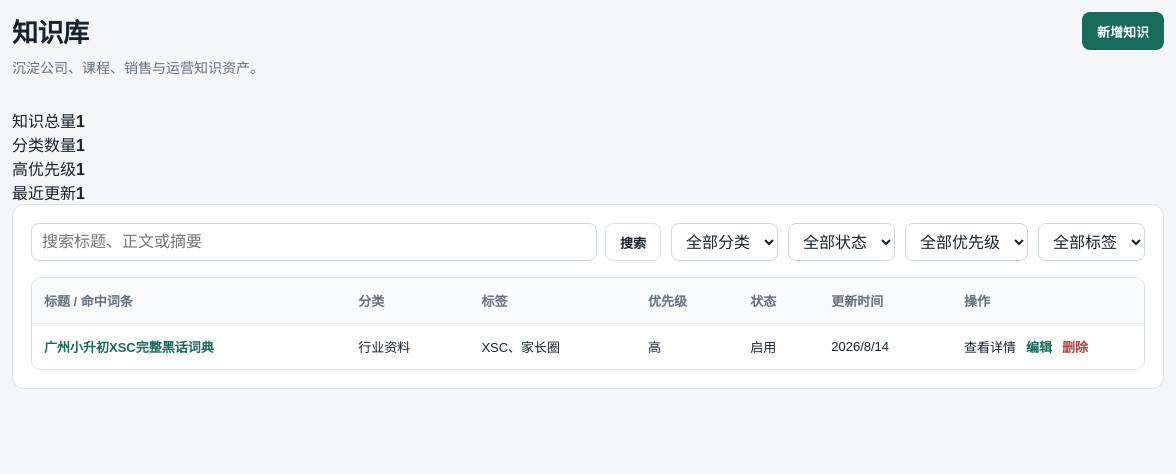
Scenario: KnowledgePage › shows matched XSC, MK and HD entries through the search button and Enter
The image size is (1176, 474).
Expected: the link "广州小升初XSC完整黑话词典" is shown, [44, 340, 214, 355]
Type "MK" into the field named "搜索知识" at (314, 242), box [31, 223, 597, 261]
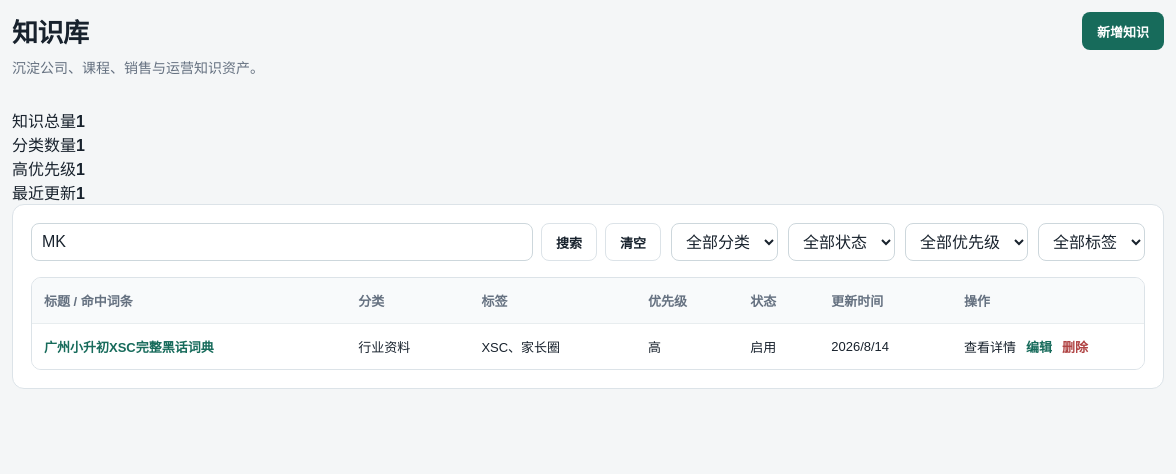
Click the button "搜索" at (569, 242), box [541, 223, 597, 261]
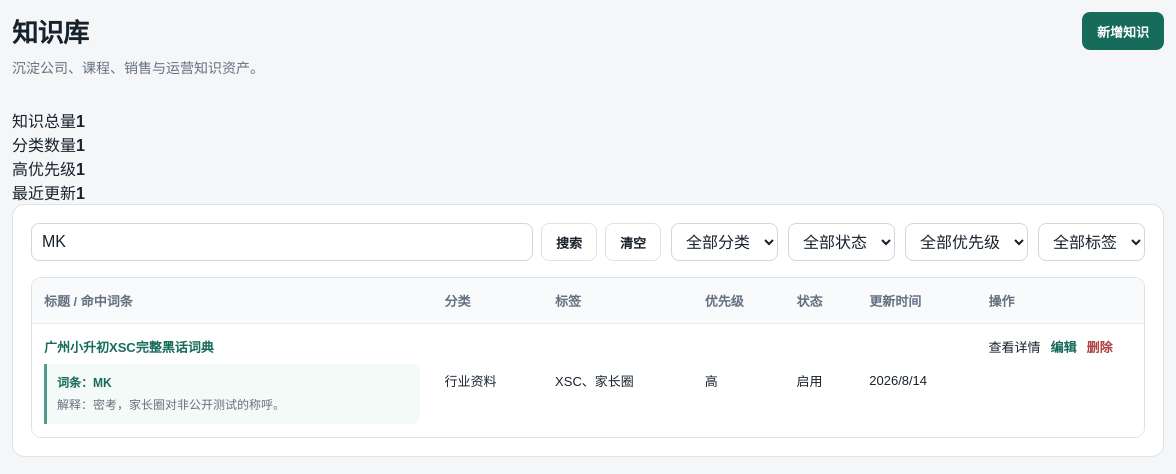
Now the text "词条：MK" is shown, box [57, 376, 112, 390]
Now the text "解释：密考，家长圈对非公开测试的称呼。" is shown, box [57, 398, 285, 412]
Replace the text in the field named "搜索知识" with "XSC" at (282, 242), box [31, 223, 533, 261]
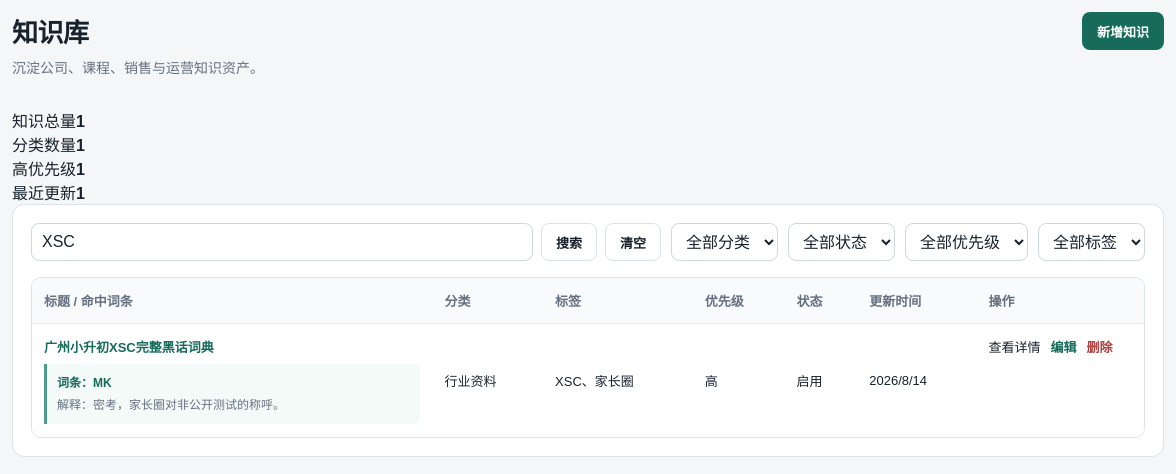
Press Enter in the field named "搜索知识", box [31, 223, 533, 261]
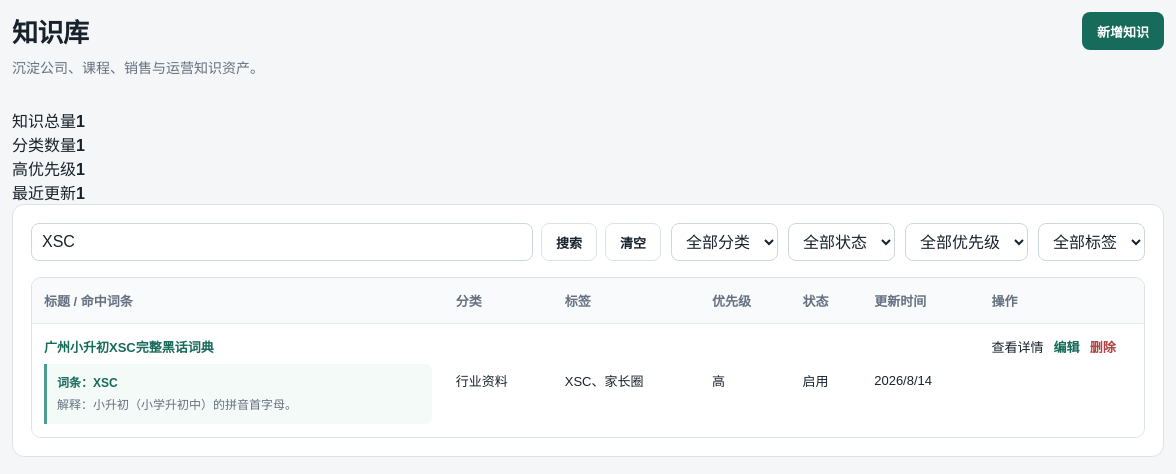
Now the text "词条：XSC" is shown, box [57, 376, 118, 390]
Replace the text in the field named "搜索知识" with "HD" at (282, 242), box [31, 223, 533, 261]
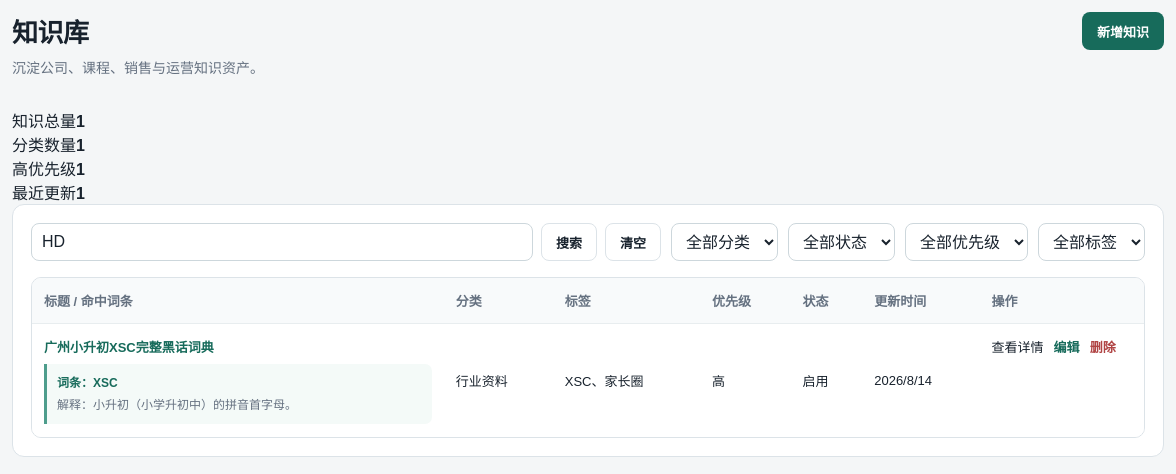
Click the button "搜索" at (569, 242), box [541, 223, 597, 261]
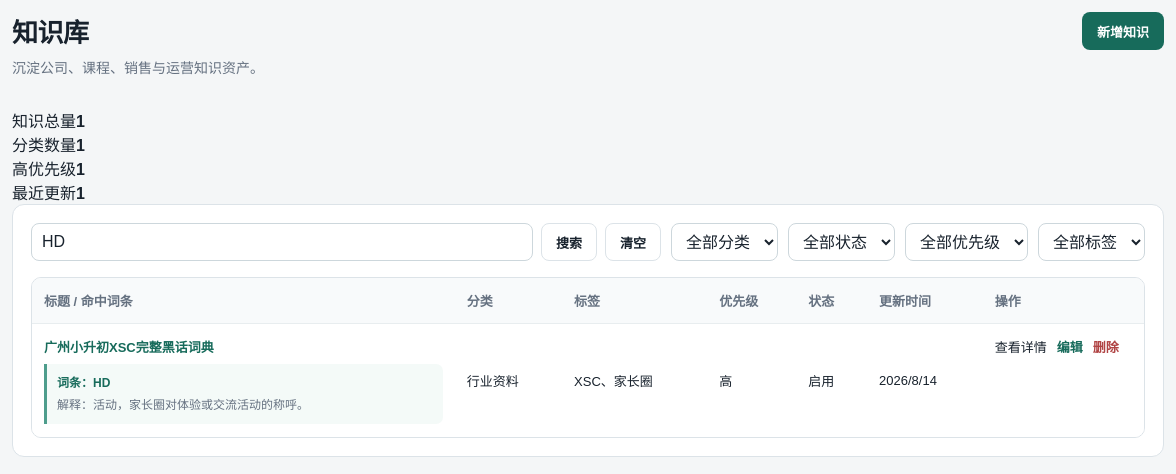
Now the text "词条：HD" is shown, box [57, 376, 110, 390]
